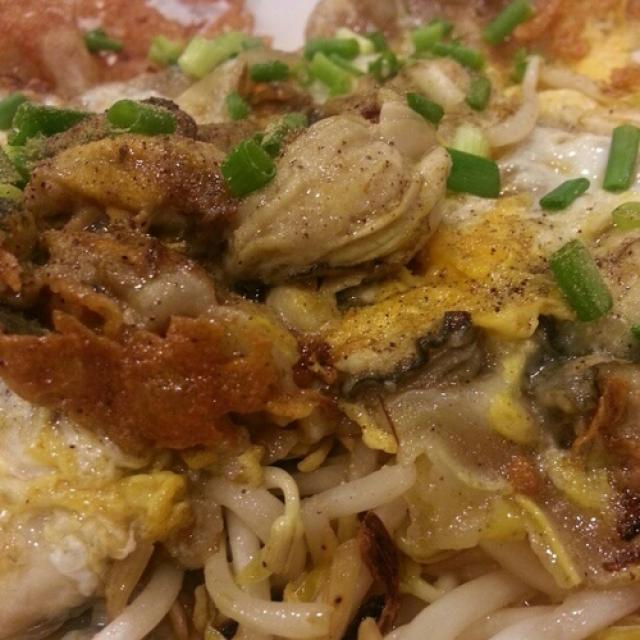炸货点心: (5, 11, 631, 628)
蛋糕甜品: (5, 11, 631, 628)
